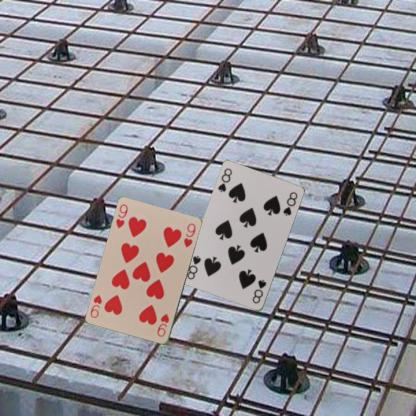8s: (249, 277, 268, 305), (216, 166, 234, 193)
9h: (114, 201, 130, 230), (155, 311, 170, 338)
